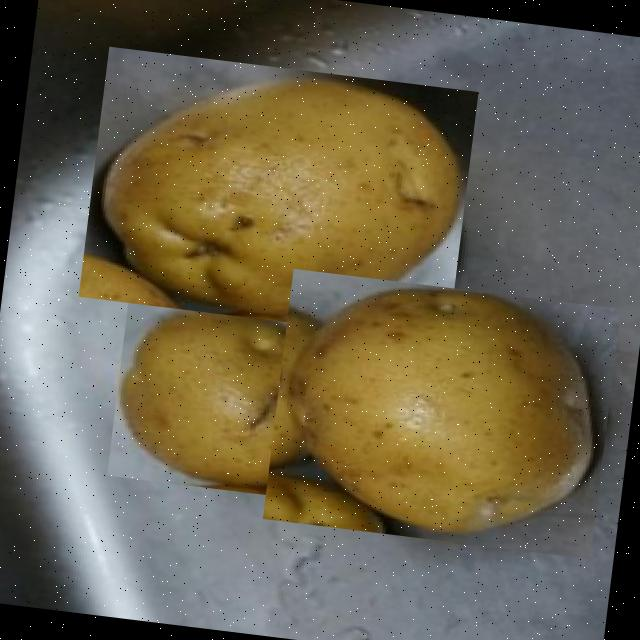Potato: (77, 46, 477, 342), (262, 268, 620, 558), (106, 292, 357, 503)
